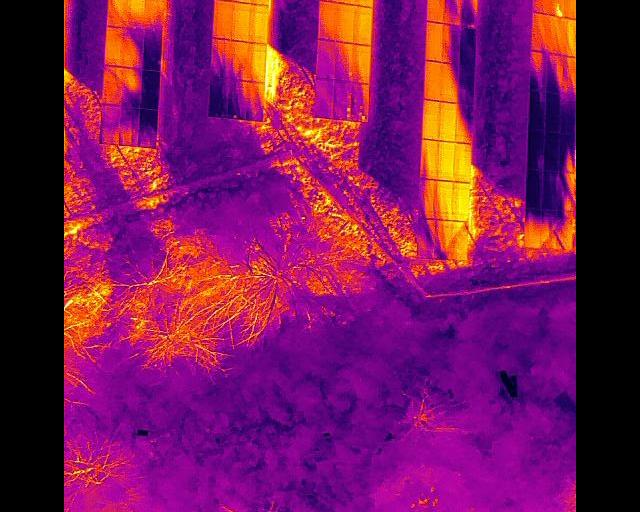Cell: (335, 41, 353, 82)
Cell-Multi: (333, 80, 353, 118), (352, 82, 369, 121)
No-Anomaly: (104, 26, 123, 66), (319, 0, 338, 40), (353, 44, 372, 84), (233, 2, 252, 41), (354, 4, 372, 45), (437, 179, 455, 219), (337, 2, 355, 42), (426, 19, 442, 62), (214, 0, 232, 38), (424, 99, 440, 141), (440, 140, 456, 180), (456, 142, 472, 182), (252, 4, 269, 41), (250, 43, 266, 82), (426, 59, 441, 100), (441, 101, 456, 142), (454, 180, 469, 220), (547, 15, 562, 54), (532, 12, 547, 51), (562, 17, 576, 55), (533, 0, 548, 12)
Shadowing: (123, 26, 145, 67), (119, 106, 141, 145), (208, 75, 229, 115), (121, 67, 142, 106), (141, 67, 160, 109), (229, 79, 248, 120), (143, 28, 162, 69), (212, 38, 233, 75), (245, 82, 264, 122), (314, 78, 334, 116), (100, 104, 120, 142), (442, 21, 460, 63), (442, 61, 460, 103), (102, 66, 121, 105), (528, 90, 546, 131), (317, 40, 336, 78), (139, 109, 158, 147), (419, 178, 437, 218), (422, 138, 439, 180), (232, 41, 251, 78), (419, 218, 436, 259), (527, 169, 544, 209), (459, 62, 475, 104), (530, 50, 547, 89), (436, 219, 453, 258), (544, 169, 560, 210), (456, 103, 472, 144), (527, 130, 544, 168), (460, 26, 476, 64), (541, 209, 557, 247), (561, 91, 576, 131), (545, 132, 561, 169), (560, 167, 574, 209), (453, 220, 468, 259), (547, 90, 561, 131), (146, 0, 165, 30), (527, 209, 541, 248), (558, 209, 572, 248), (108, 0, 128, 27), (562, 54, 576, 92), (547, 53, 561, 91), (128, 0, 146, 28), (561, 132, 574, 168), (463, 0, 479, 27), (446, 0, 463, 25), (429, 0, 445, 22)
Unclassified: (549, 0, 565, 16)
